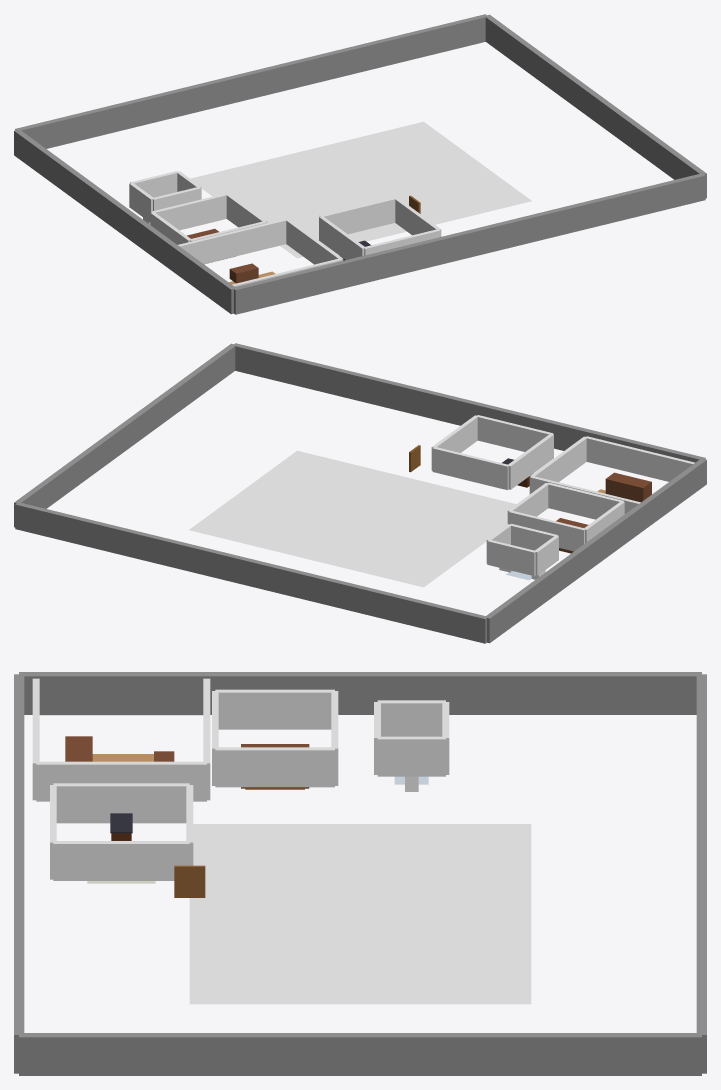
The model's file is connected_floor_plan_08978b3f-5ac0-4bd2-8b7c-5637727b2dcb.obj.
3 views of the same model, one above another, from view 1: azimuth 30°, elevation 25°; view 2: azimuth 150°, elevation 25°; view 3: azimuth 270°, elevation 25° (orthographic). The views are drawn at different scales.
Visible parts, largest first — view 1: Foundation, ExteriorWall_2, ExteriorWall_3, ExteriorWall_0, ExteriorWall_1, Wall_Living_Room_3, Wall_Kitchen_3, Wall_Bedroom_3, Wall_Living_Room_1, Wall_Kitchen_0, Wall_Kitchen_1, Wall_Bathroom_3 (+5 smaller); view 2: Foundation, ExteriorWall_3, ExteriorWall_2, ExteriorWall_0, ExteriorWall_1, Wall_Living_Room_2, Wall_Kitchen_3, Wall_Kitchen_2, Wall_Bedroom_2, Wall_Bedroom_3, Wall_Bathroom_3, Wall_Kitchen_0 (+8 smaller); view 3: Foundation, ExteriorWall_1, ExteriorWall_0, Wall_Kitchen_1, Wall_Kitchen_0, Wall_Bedroom_1, Wall_Bedroom_0, Wall_Living_Room_1, ExteriorWall_2, ExteriorWall_3, Wall_Bathroom_1, Wall_Bathroom_0 (+4 smaller).
Boxes of the visible parts, bbox=[...] form: Foundation: bbox=[190, 121, 531, 258]; ExteriorWall_2: bbox=[234, 174, 705, 314]; ExteriorWall_3: bbox=[15, 14, 487, 148]; ExteriorWall_0: bbox=[14, 129, 236, 314]; ExteriorWall_1: bbox=[484, 14, 706, 198]; Wall_Living_Room_3: bbox=[178, 218, 286, 263]; Wall_Kitchen_3: bbox=[319, 197, 395, 234]; Wall_Bedroom_3: bbox=[151, 193, 226, 230]; Wall_Living_Room_1: bbox=[285, 219, 343, 264]; Wall_Kitchen_0: bbox=[319, 216, 365, 259]; Wall_Kitchen_1: bbox=[394, 197, 441, 236]; Wall_Bathroom_3: bbox=[130, 171, 177, 197]; Foundation: bbox=[189, 450, 516, 587]; ExteriorWall_3: bbox=[15, 503, 487, 643]; ExteriorWall_2: bbox=[234, 343, 705, 462]; ExteriorWall_0: bbox=[484, 458, 706, 643]; ExteriorWall_1: bbox=[14, 343, 236, 527]; Wall_Living_Room_2: bbox=[585, 436, 694, 481]; Wall_Kitchen_3: bbox=[432, 447, 508, 490]; Wall_Kitchen_2: bbox=[477, 415, 553, 451]; Wall_Bedroom_2: bbox=[547, 482, 623, 519]; Wall_Bedroom_3: bbox=[508, 510, 584, 551]; Wall_Bathroom_3: bbox=[487, 540, 535, 576]; Wall_Kitchen_0: bbox=[507, 433, 553, 489]; Foundation: bbox=[189, 824, 531, 1004]; ExteriorWall_1: bbox=[19, 1033, 701, 1075]; ExteriorWall_0: bbox=[19, 672, 701, 714]; Wall_Kitchen_1: bbox=[53, 841, 189, 880]; Wall_Kitchen_0: bbox=[53, 783, 189, 823]; Wall_Bedroom_1: bbox=[215, 747, 334, 787]; Wall_Bedroom_0: bbox=[215, 689, 334, 729]; Wall_Living_Room_1: bbox=[36, 761, 206, 801]; ExteriorWall_2: bbox=[14, 674, 24, 1073]; ExteriorWall_3: bbox=[696, 674, 706, 1073]; Wall_Bathroom_1: bbox=[377, 736, 445, 776]; Wall_Bathroom_0: bbox=[377, 700, 445, 736].
Size of the model in its own units: 25.3 by 1.93 by 20.3.
